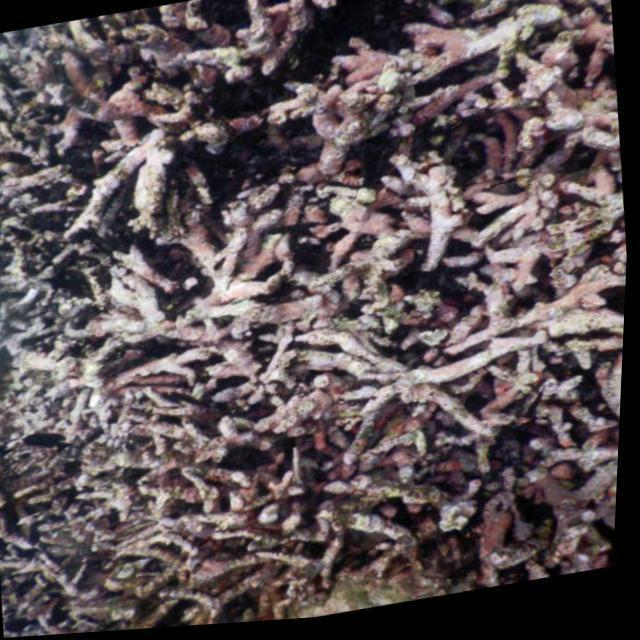Dead Coral: (53, 38, 589, 576)
